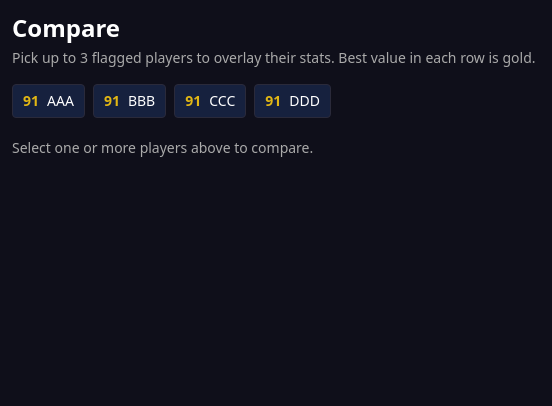
Test case: caps selection at three players
The image size is (552, 406).
Click the button "91 AAA". click: (48, 101)
box: x1=12 y1=84 x2=85 y2=118
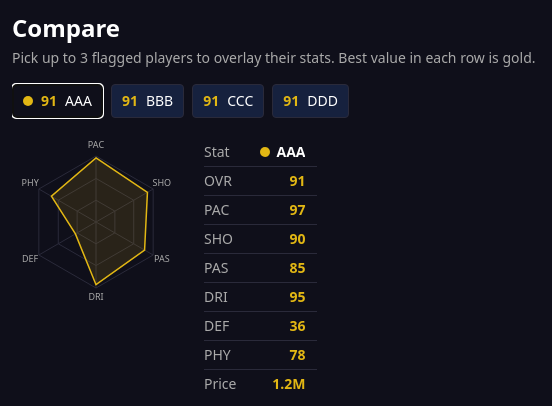
Click the button "91 BBB". click: (148, 101)
box: x1=111 y1=84 x2=184 y2=118
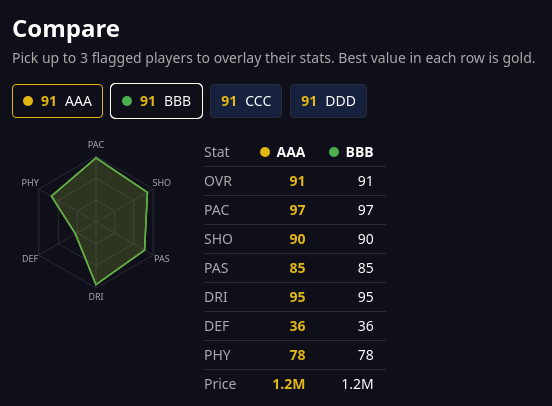
Click the button "91 CCC". click: (246, 101)
box: x1=210 y1=84 x2=282 y2=118
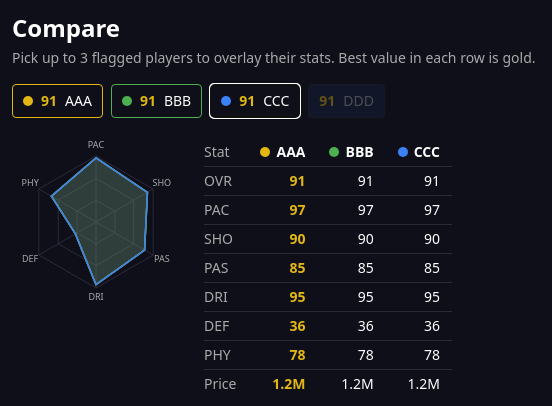
expect the button "91 DDD" is disabled: met, box x1=308 y1=84 x2=385 y2=118
